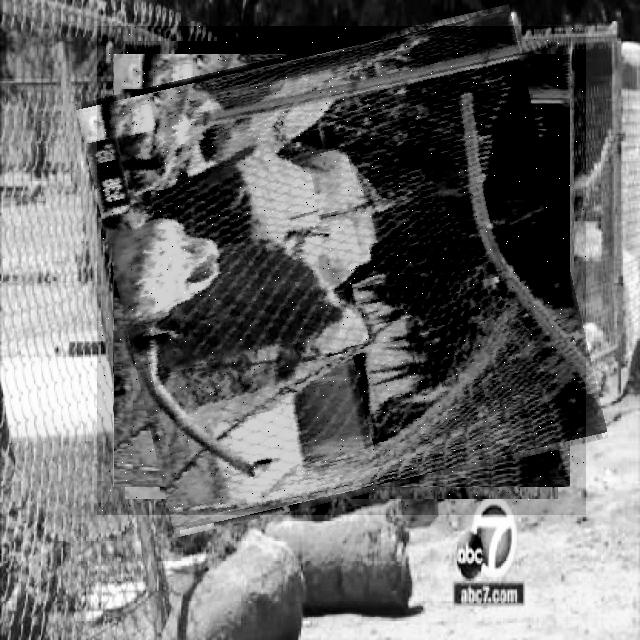anomaly-fence: (97, 26, 586, 515)
